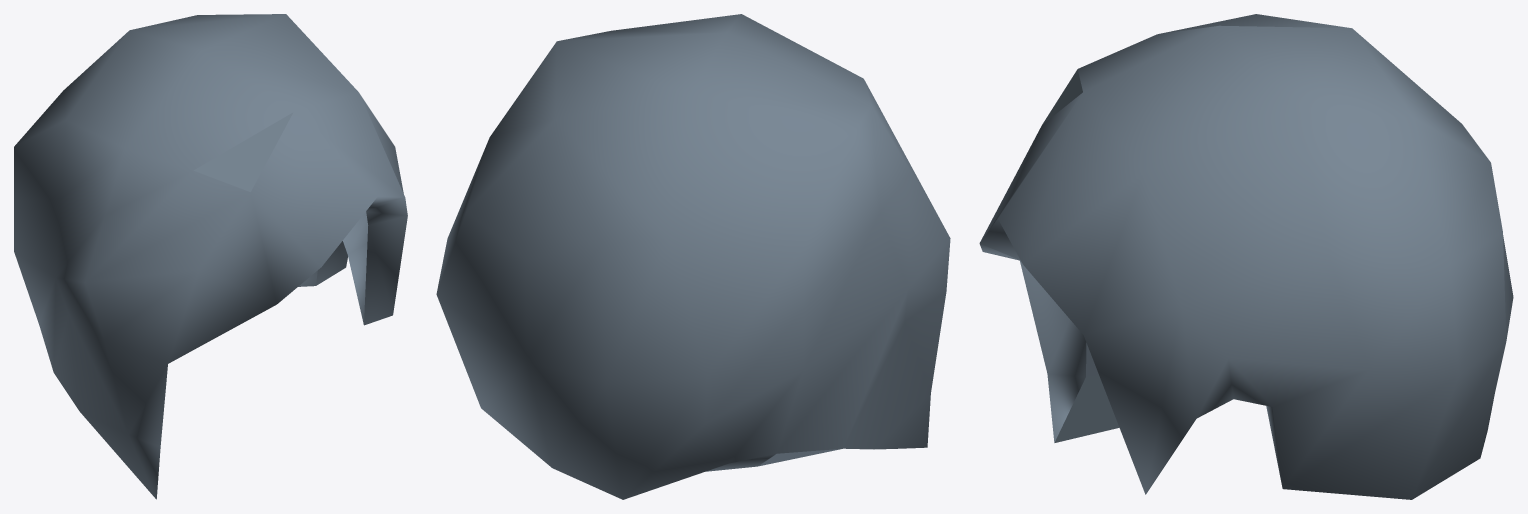
File: HairKarenGrey.fbx
The picture shows the model from 3 angles, left to right: view 1: azimuth 30°, elevation 25°; view 2: azimuth 150°, elevation 25°; view 3: azimuth 270°, elevation 25°; orthographic projection. The views are drawn at different scales.
Visible parts, largest first — view 1: HairKarenGrey; view 2: HairKarenGrey; view 3: HairKarenGrey.
Boxes of the visible parts, bbox=[...] form: HairKarenGrey: bbox=[14, 14, 407, 499]; HairKarenGrey: bbox=[436, 14, 950, 499]; HairKarenGrey: bbox=[979, 14, 1513, 499].
Bounding box in the file's own units: 55.77 × 59.13 × 58.89.
